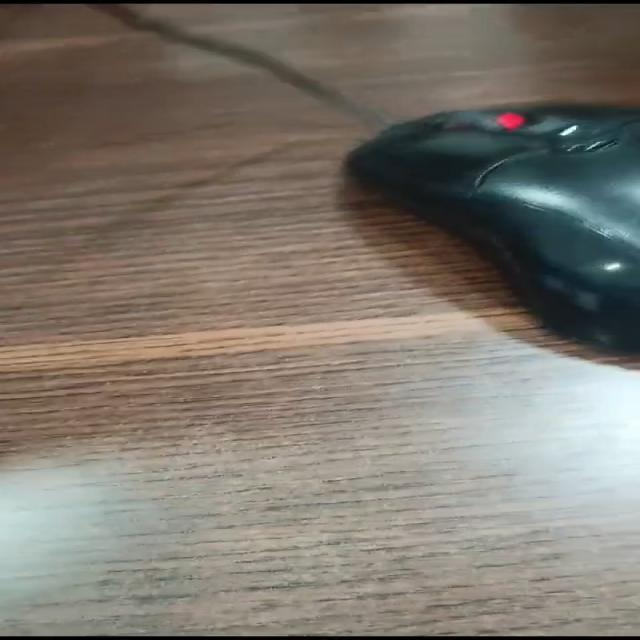mouse: (198, 29, 640, 450)
